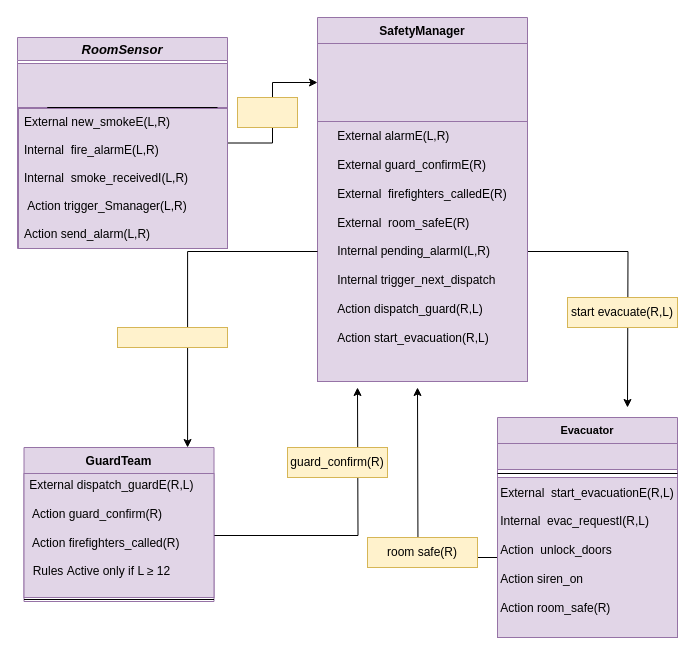
Some shapes in this 695 by 655 pixel diagram are drawn without their labels. The shapes that lost their labels are listed below. From the top down, each one's centre as x and y in pixels, then its label:
At [122,85]: "Dynamic smoke_received/2".
At [422,82]: "Dynamic pending_alarm/2 Dynamic busy/0".
At [267,112]: "alarm(L,R)".
At [172,337]: "dispatch_guard(R,L)".
At [587,456]: "Dynamic evac_request/2".
